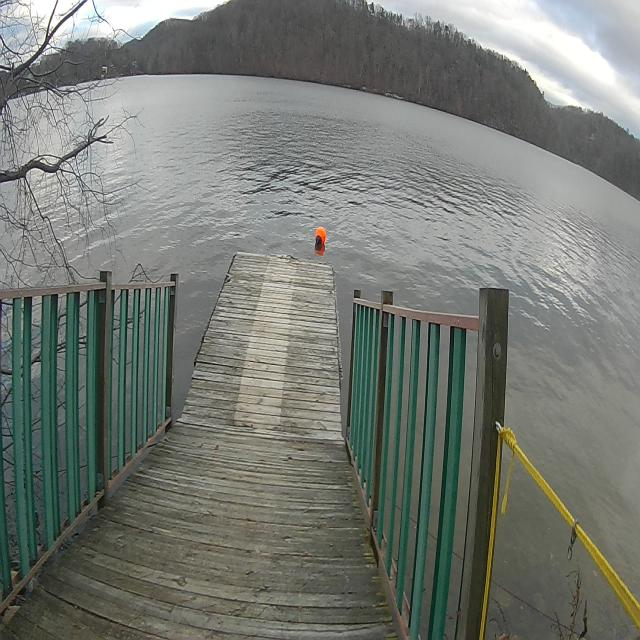Buoy: (314, 225, 327, 250)
